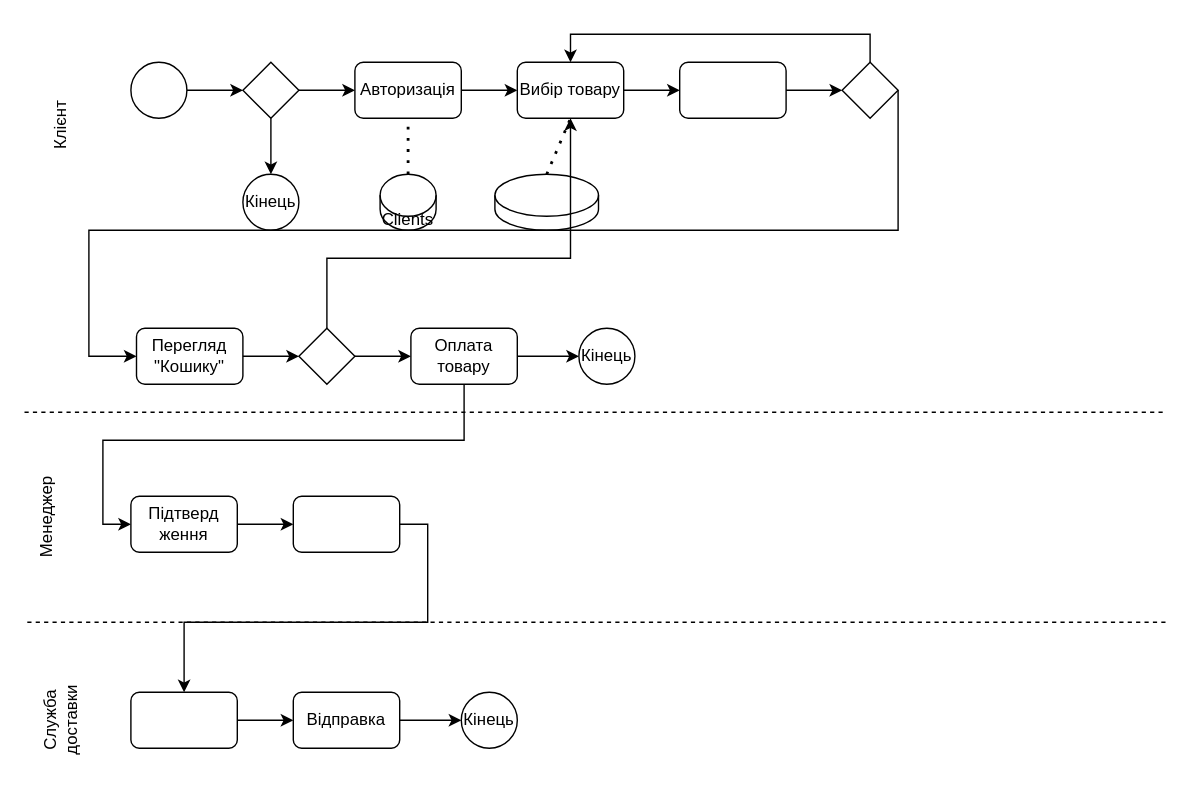
Image size: 1196x787. Some labels were removed from this diagram. Here are the shapes that lost their labels. From the top down, the box of each, then its label:
(130, 61, 187, 118): Старт
(678, 61, 786, 118): Додання у "Кошик"
(493, 173, 598, 230): Products
(292, 495, 400, 552): Передача інформації
(130, 691, 237, 748): Комплектація
